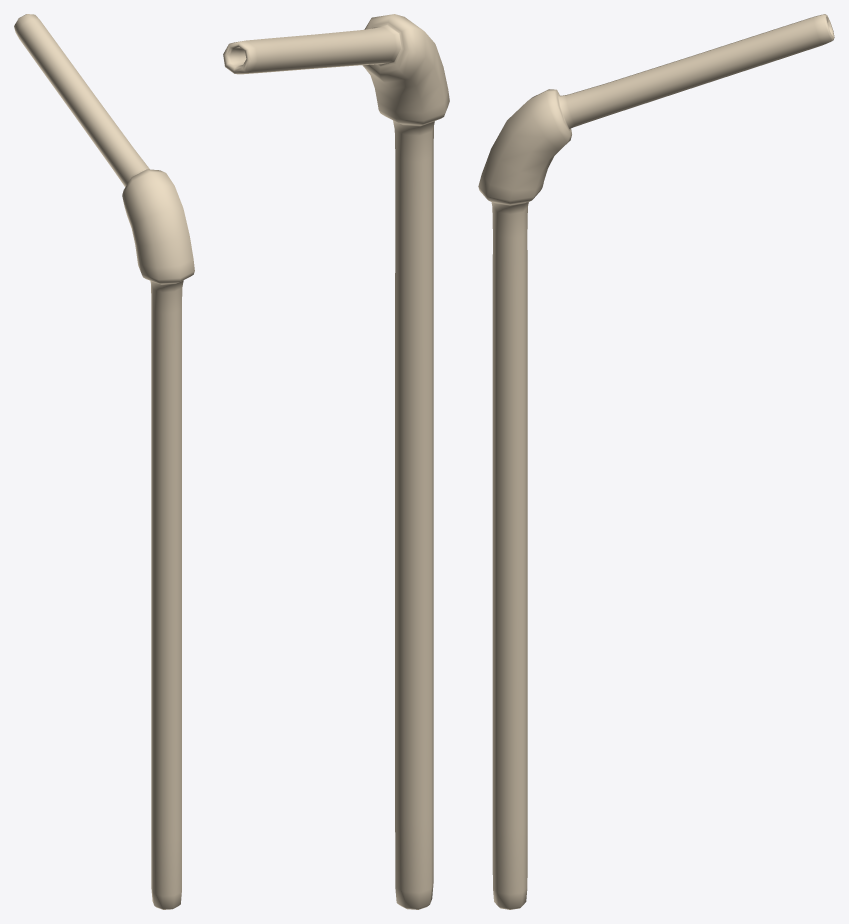
Rendered from popote uv.fbx.
3 renders of one model, left to right at view 1: azimuth 30°, elevation 25°; view 2: azimuth 150°, elevation 25°; view 3: azimuth 270°, elevation 25°, orthographic. The views are drawn at different scales.
Parts seen in each view (by area): view 1: popote; view 2: popote; view 3: popote.
Boxes of the visible parts, left/top/right/bottom form: popote: left=14, top=14, right=194, bottom=909; popote: left=223, top=14, right=449, bottom=909; popote: left=478, top=14, right=834, bottom=909.
Size of the model in its own units: 22.76 by 343 by 125.
